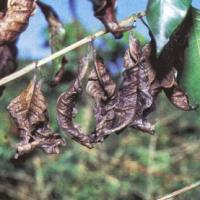mal de hilachas: (82, 41, 193, 158), (9, 57, 70, 169)
